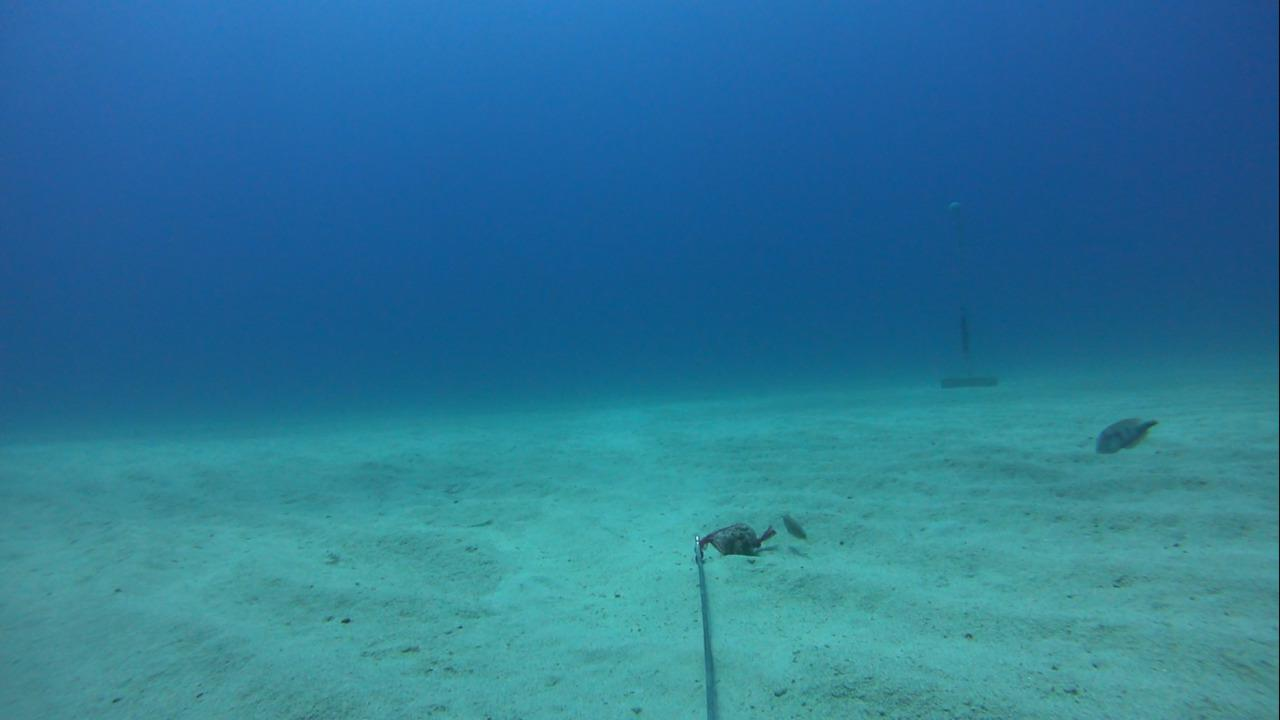raor: (1088, 410, 1163, 463), (775, 501, 817, 549)
